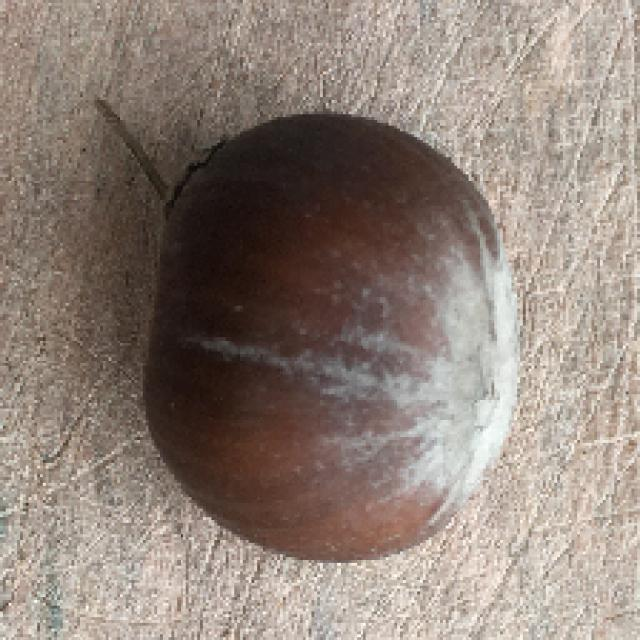damagedHazelnut: (148, 111, 517, 552)
